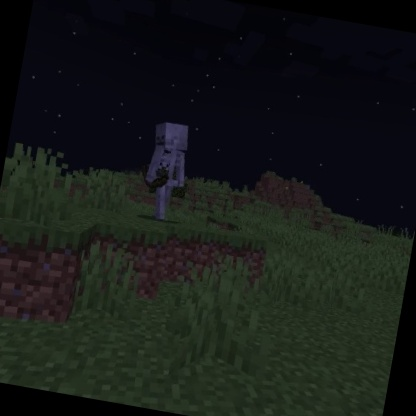skeleton: (130, 115, 198, 225)
